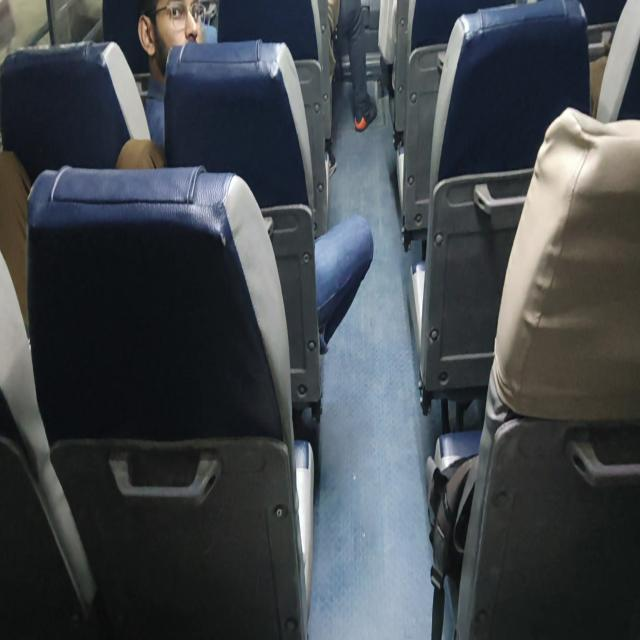person: (136, 0, 206, 59)
